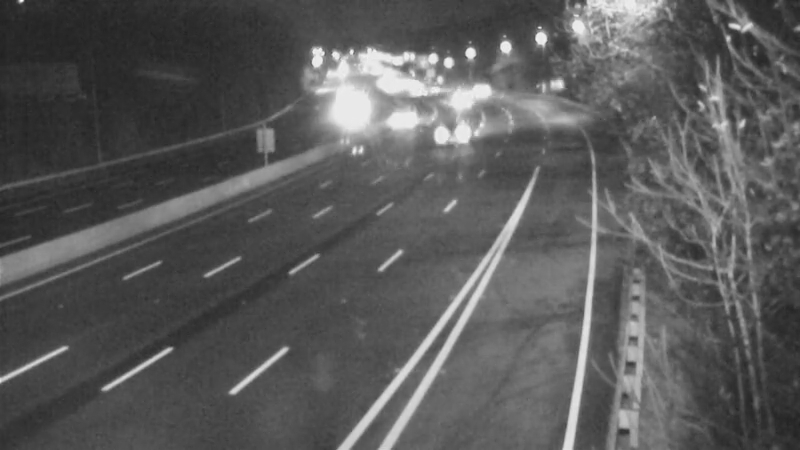vehicle: (452, 65, 502, 115), (436, 79, 486, 129), (379, 96, 429, 146), (425, 108, 475, 158), (322, 88, 372, 138)
